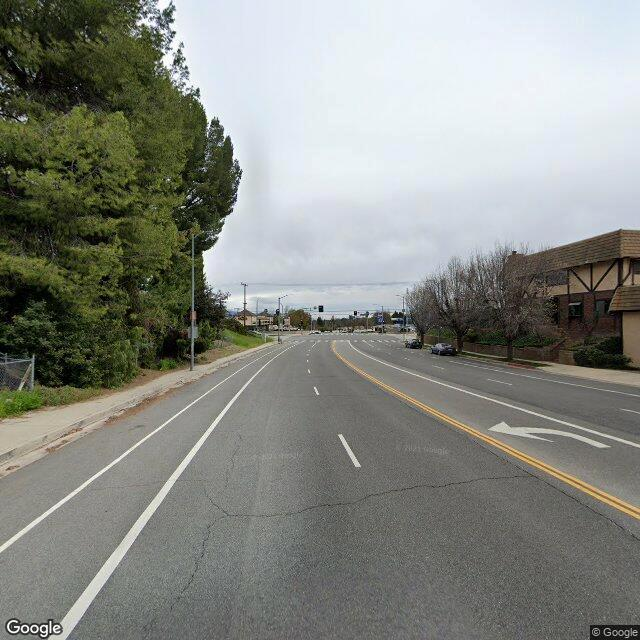crack: (391, 394, 634, 536), (224, 471, 526, 523), (144, 497, 227, 633), (5, 463, 222, 501), (219, 426, 243, 492)
